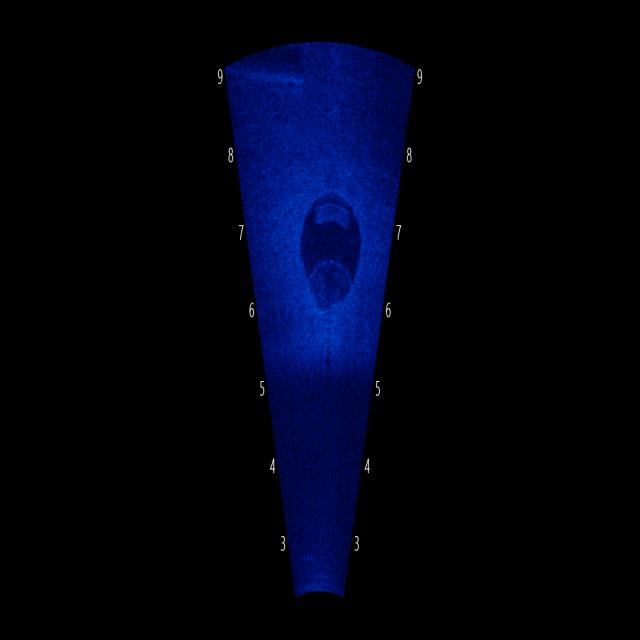circle: (288, 170, 372, 341)
